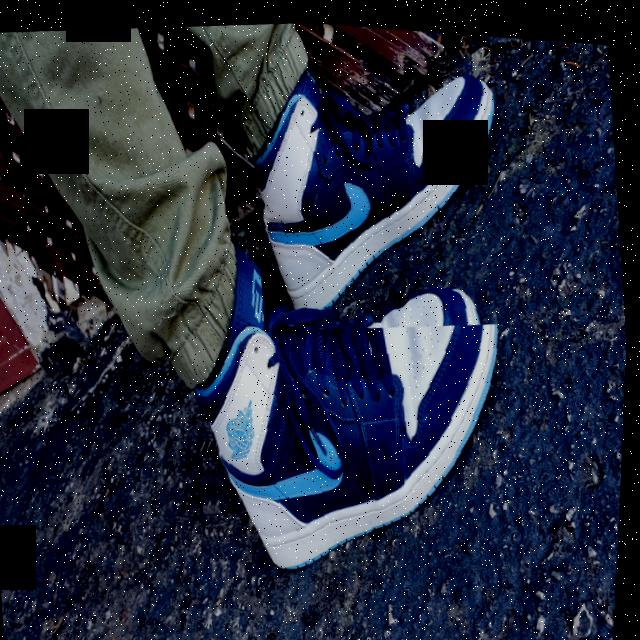shoe: (177, 210, 529, 593), (239, 33, 523, 341)
